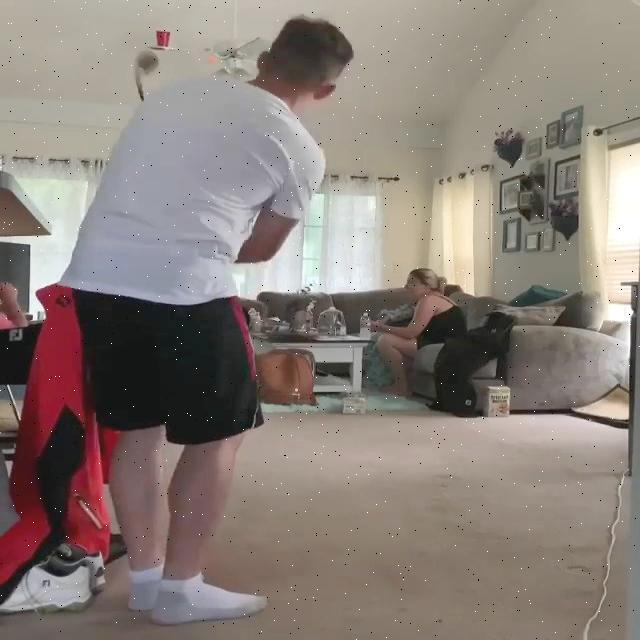ClubHandle: (130, 50, 159, 100)
ClubHead: (130, 50, 159, 74)
